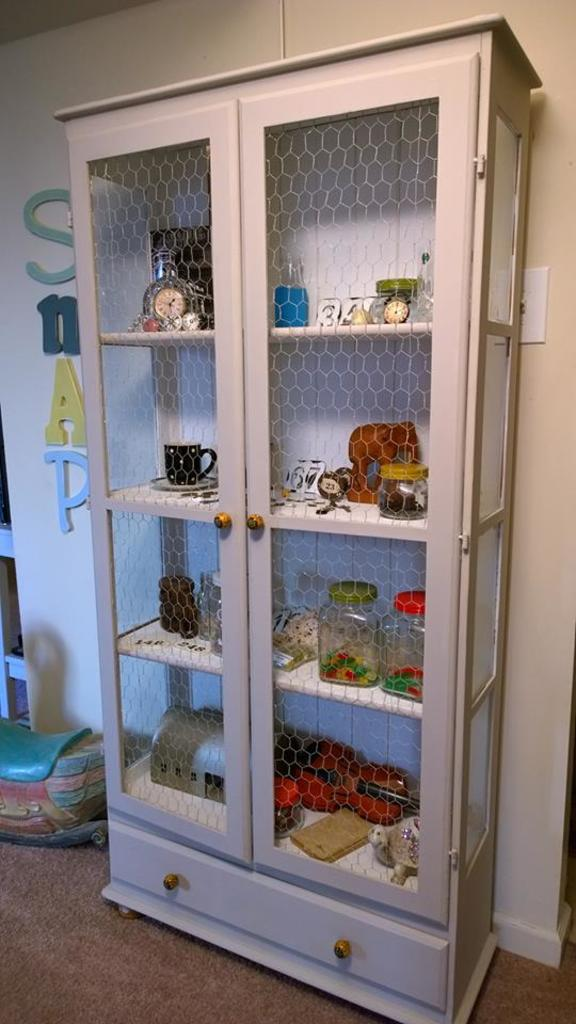Cabinetry: (64, 0, 518, 1013)
